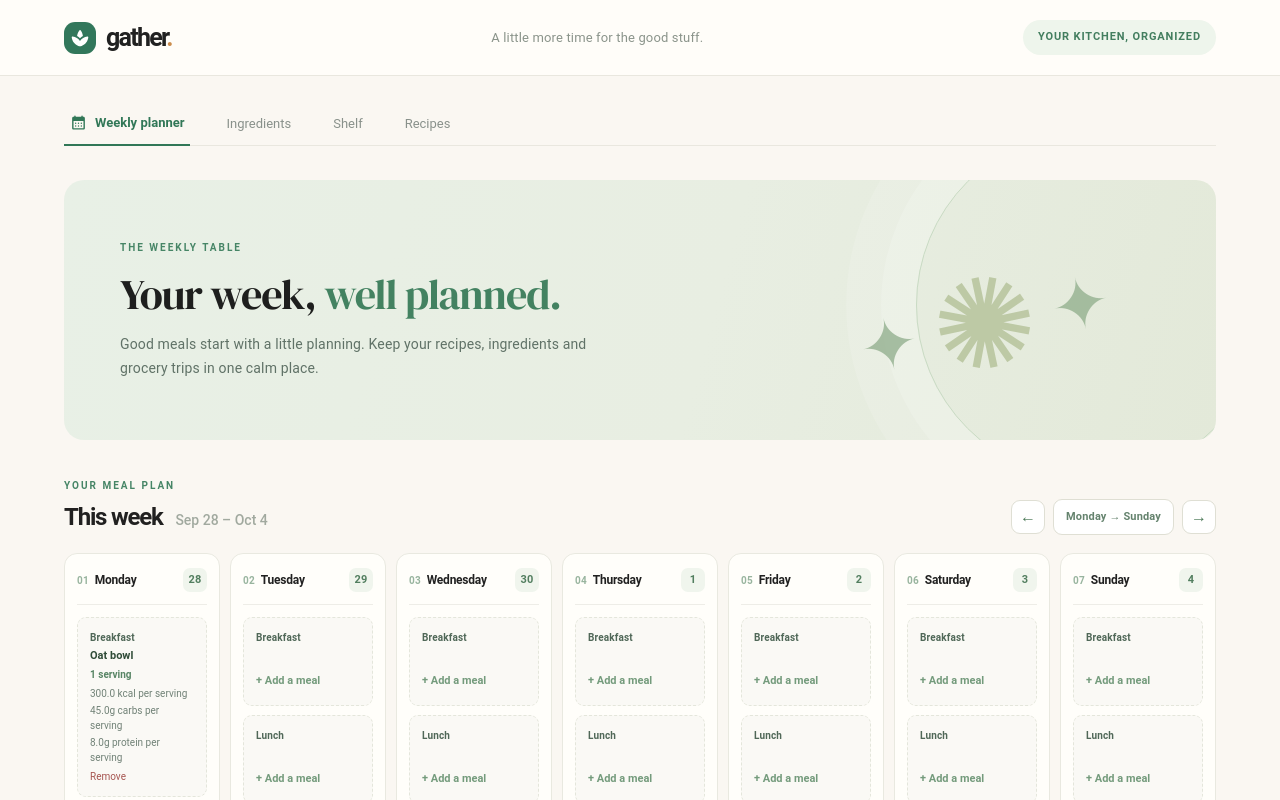
Scenario: weekly meal planner › can navigate to the next week without showing meals from the previous week
expect the text "Oat bowl" is shown: met, box [90,649,133,663]
Click the button named "next week": (1199, 517) [1182,500,1216,534]
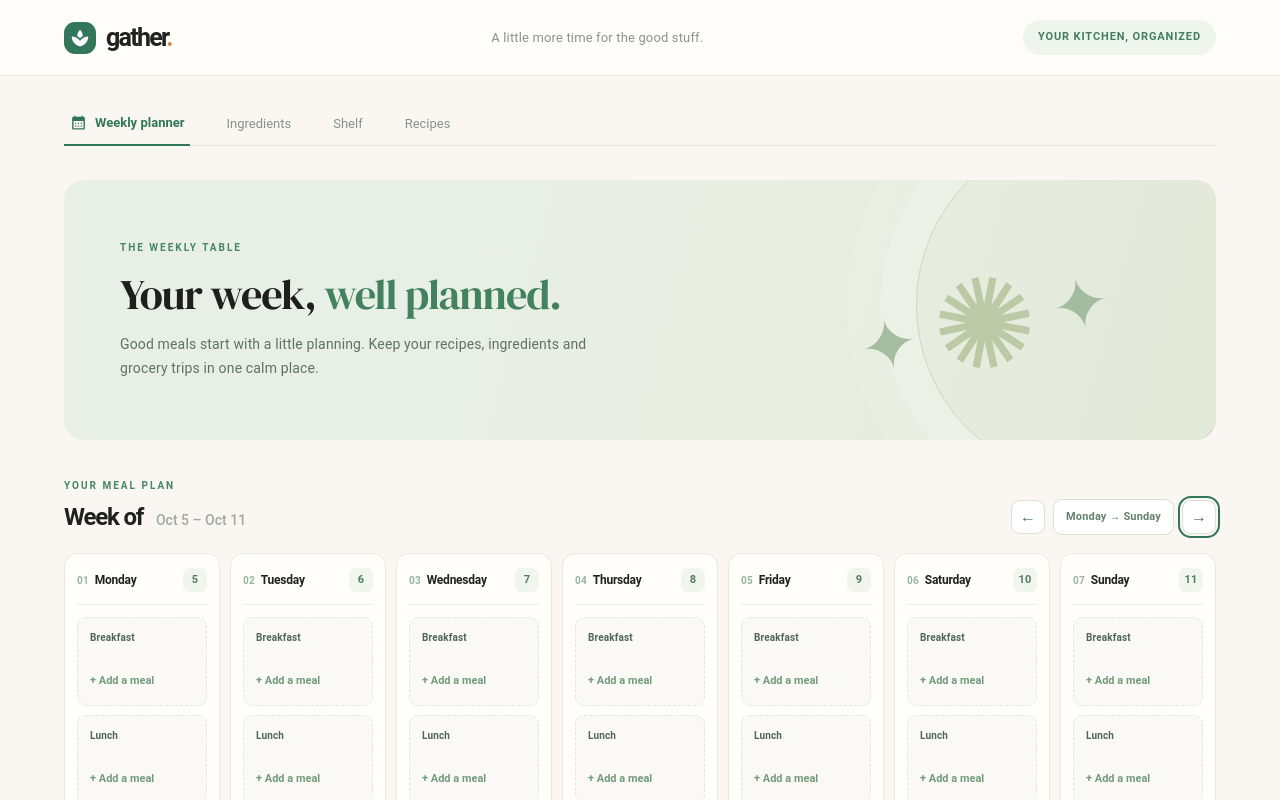
expect the button with aria-label "add breakfast on monday" is shown: met, box [90,668,194,693]
expect the heading "Week of Oct 5 – Oct 11" is shown: met, box [64,499,246,535]
expect the button "Oat bowl" is gone: met
